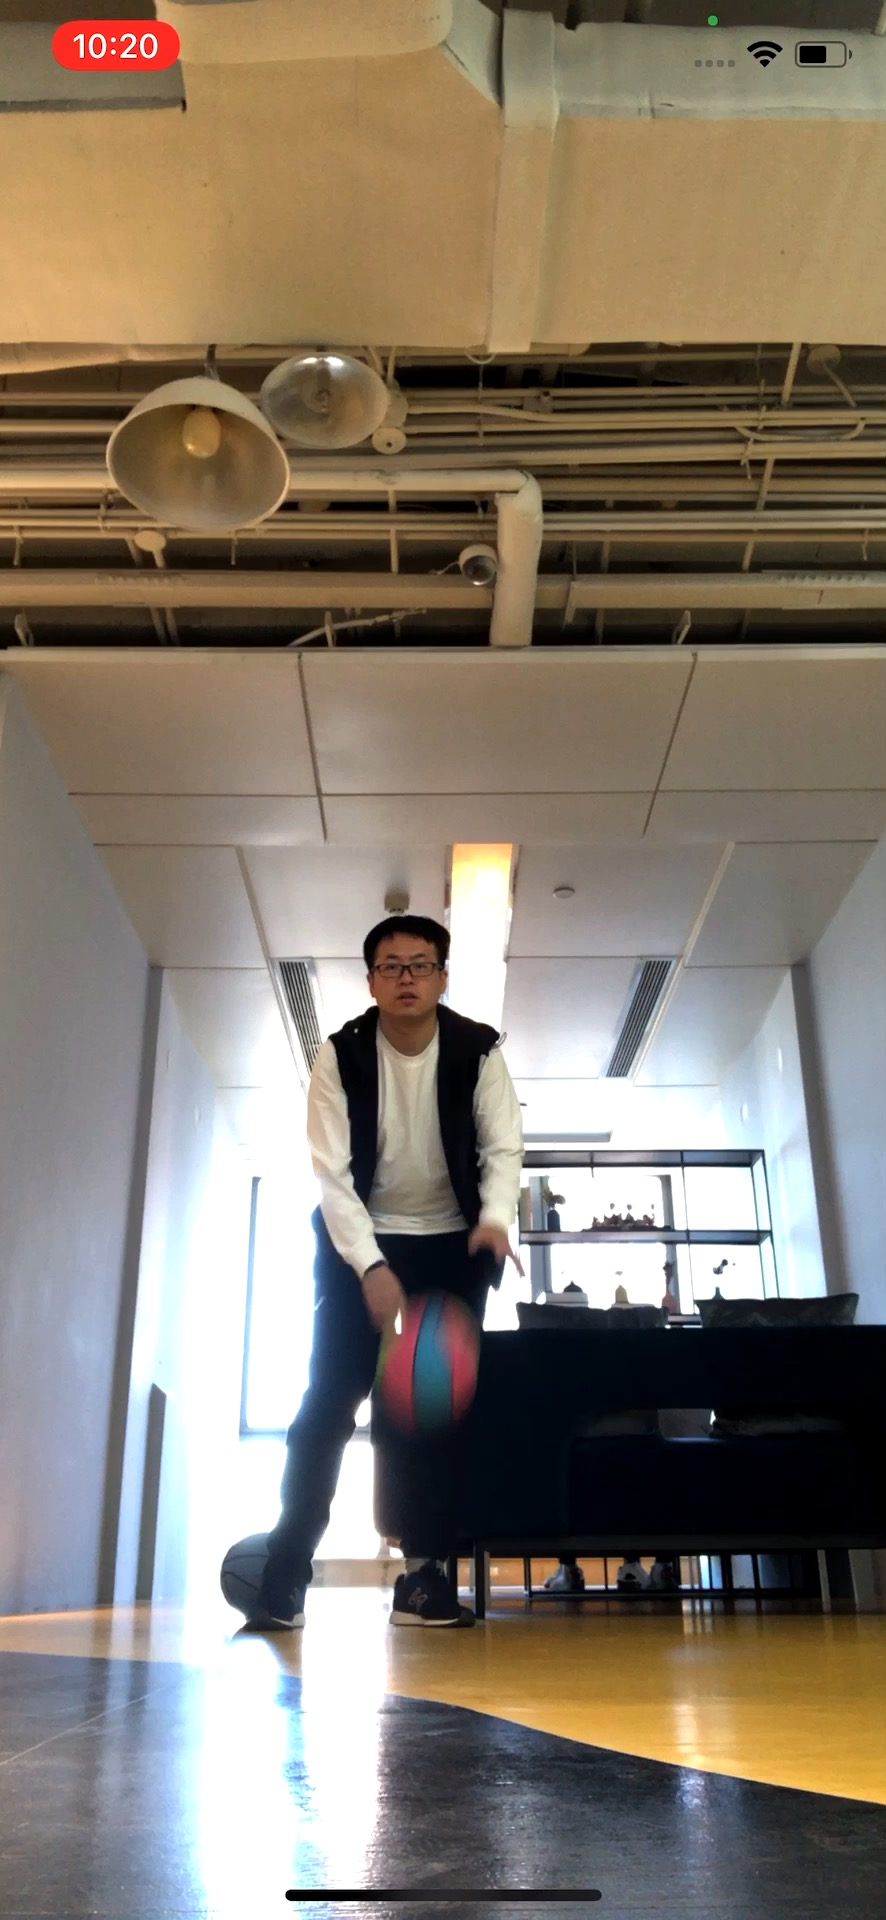ball: (376, 1308, 482, 1429)
